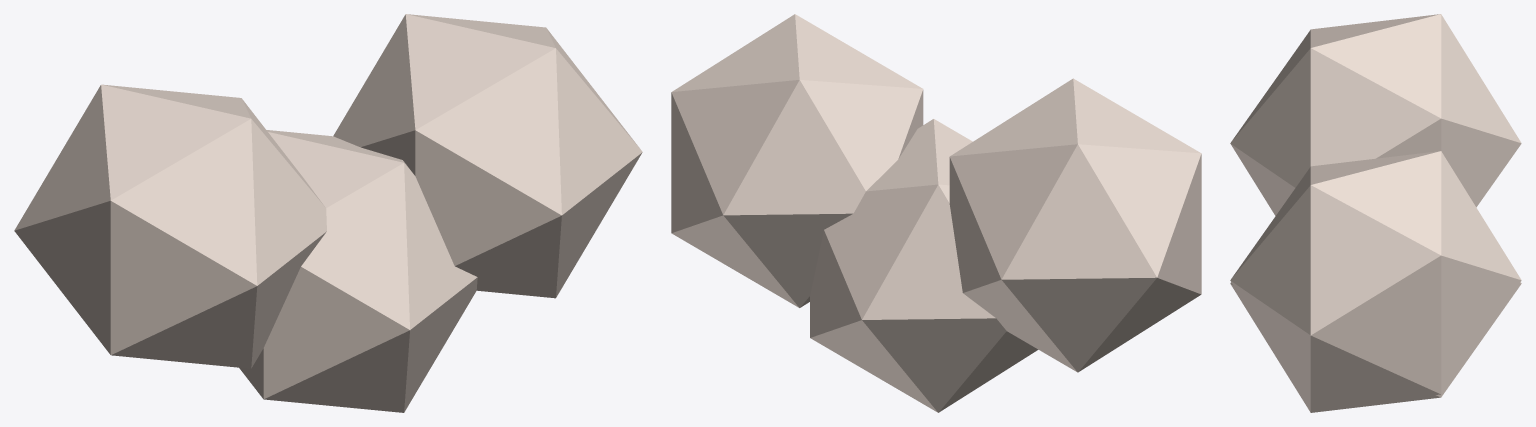
Rendered from Isl_15_Cloud_3.fbx.
3 views of the same model, side by side, from view 1: azimuth 30°, elevation 25°; view 2: azimuth 150°, elevation 25°; view 3: azimuth 270°, elevation 25° (orthographic). The views are drawn at different scales.
Visible parts, largest first — view 1: Isl_15_Cloud_3; view 2: Isl_15_Cloud_3; view 3: Isl_15_Cloud_3.
Boxes of the visible parts, left/top/right/bottom form: Isl_15_Cloud_3: left=14, top=14, right=642, bottom=412; Isl_15_Cloud_3: left=671, top=14, right=1201, bottom=412; Isl_15_Cloud_3: left=1230, top=14, right=1521, bottom=412.
Bounding box in the file's own units: 763 × 386 × 435.
Materials: 1 (1 with a texture image).
